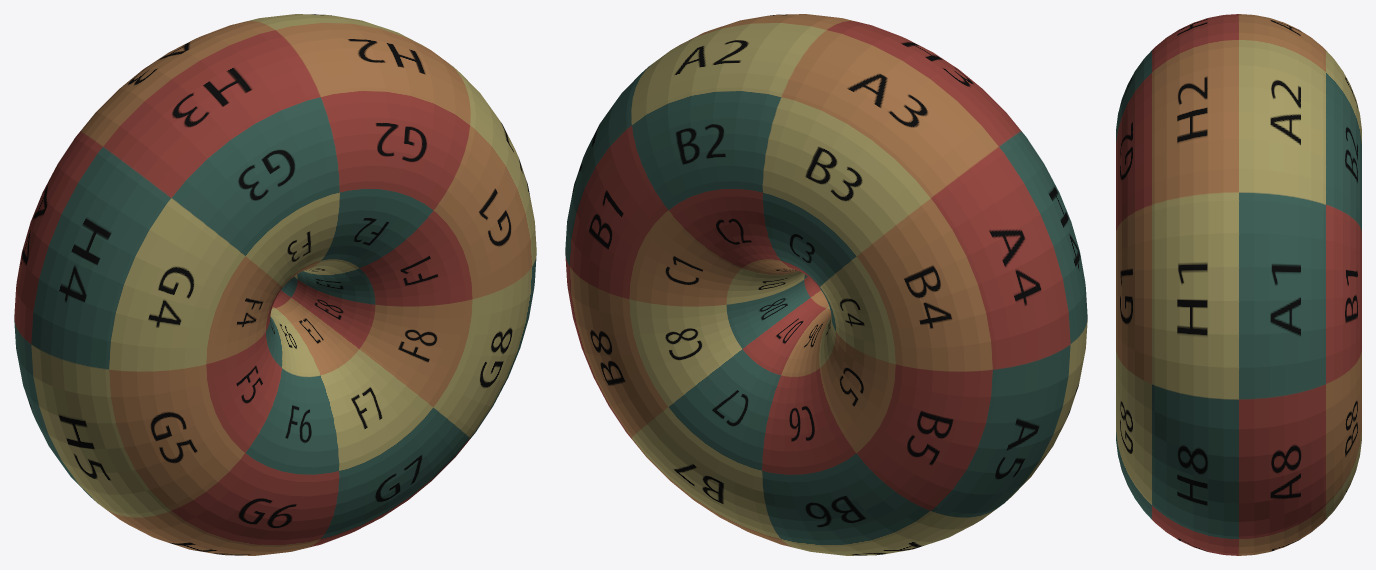
File: texture_torus_R3_r30.glb
The picture shows the model from 3 angles, left to right: view 1: azimuth 30°, elevation 25°; view 2: azimuth 150°, elevation 25°; view 3: azimuth 270°, elevation 25°; orthographic projection. The views are drawn at different scales.
Visible parts, largest first — view 1: world; view 2: world; view 3: world.
Part boxes in pixels (x1,y1,x2,y2): world: (14,14,536,555); world: (565,14,1087,555); world: (1116,14,1361,555).
Size of the model in its own units: 22 by 21.96 by 9.98.
Materials: 1 (1 with a texture image).
